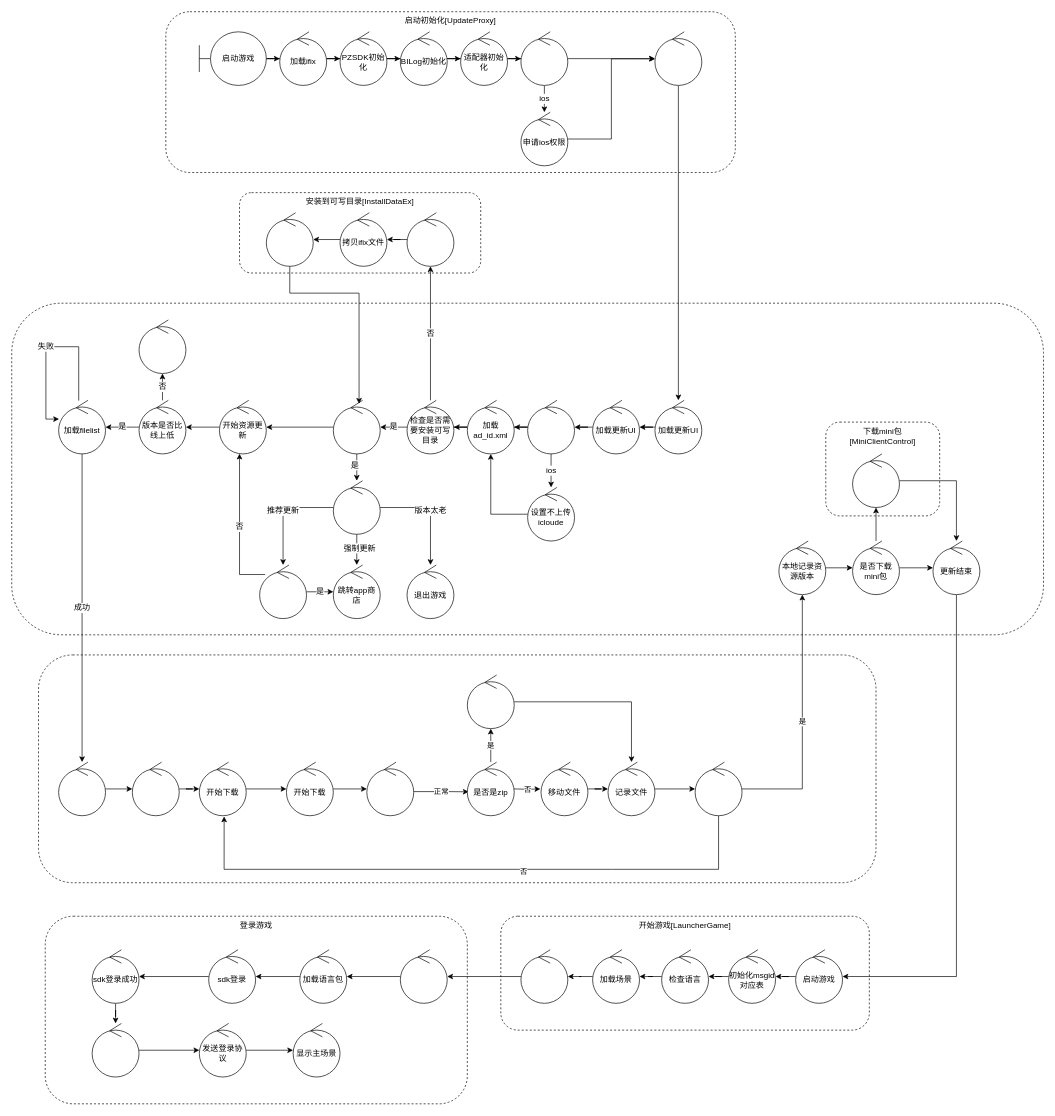
This 1055x1116 diagram has some shape labels left out. Each missing label, with the box of its shape:
下载mini包: (852, 453, 899, 508)
写入版本标记: (266, 212, 313, 266)
初始化LOG: (654, 31, 702, 85)
开始加载热更资源: (58, 761, 106, 816)
打开登录界面: (520, 949, 568, 1003)
拷贝copy_files文件: (406, 212, 454, 266)
是否下载完成: (694, 761, 742, 816)
是否更新: (259, 564, 307, 619)
更新nimi包: (138, 319, 186, 374)
更新主体逻辑[UpdateControllerEx]: (11, 303, 1044, 635)
更新方式判断: (333, 480, 380, 534)
更新资源[UpdateResEx]: (38, 654, 876, 883)
检查文件: (366, 761, 414, 816)
检查是否需要更新应用程序: (333, 400, 380, 454)
检测文件目录: (527, 400, 575, 454)
点击登录: (400, 949, 447, 1003)
登录游戏服务器: (91, 1023, 139, 1077)
获取列表差异的数据: (132, 761, 179, 816)
解压: (467, 674, 514, 729)
设置默认语言: (520, 31, 568, 85)
